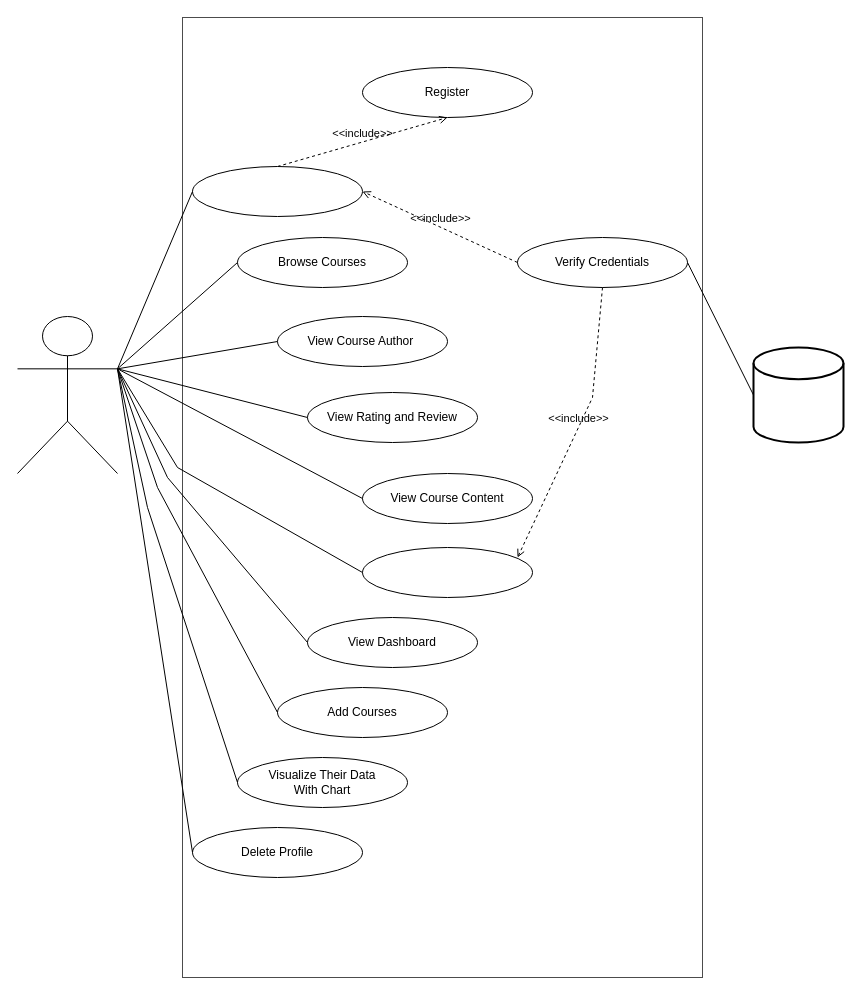
Some shapes in this 862 by 995 pixel diagram are drawn without their labels. Here are the shapes that lost their labels. From the top down, the centre of each, then its label:
At (x=277, y=191): "Login".
At (x=67, y=395): "Instructor".
At (x=798, y=394): "<<Actor Database>>".
At (x=447, y=572): "Contact To Admin".
